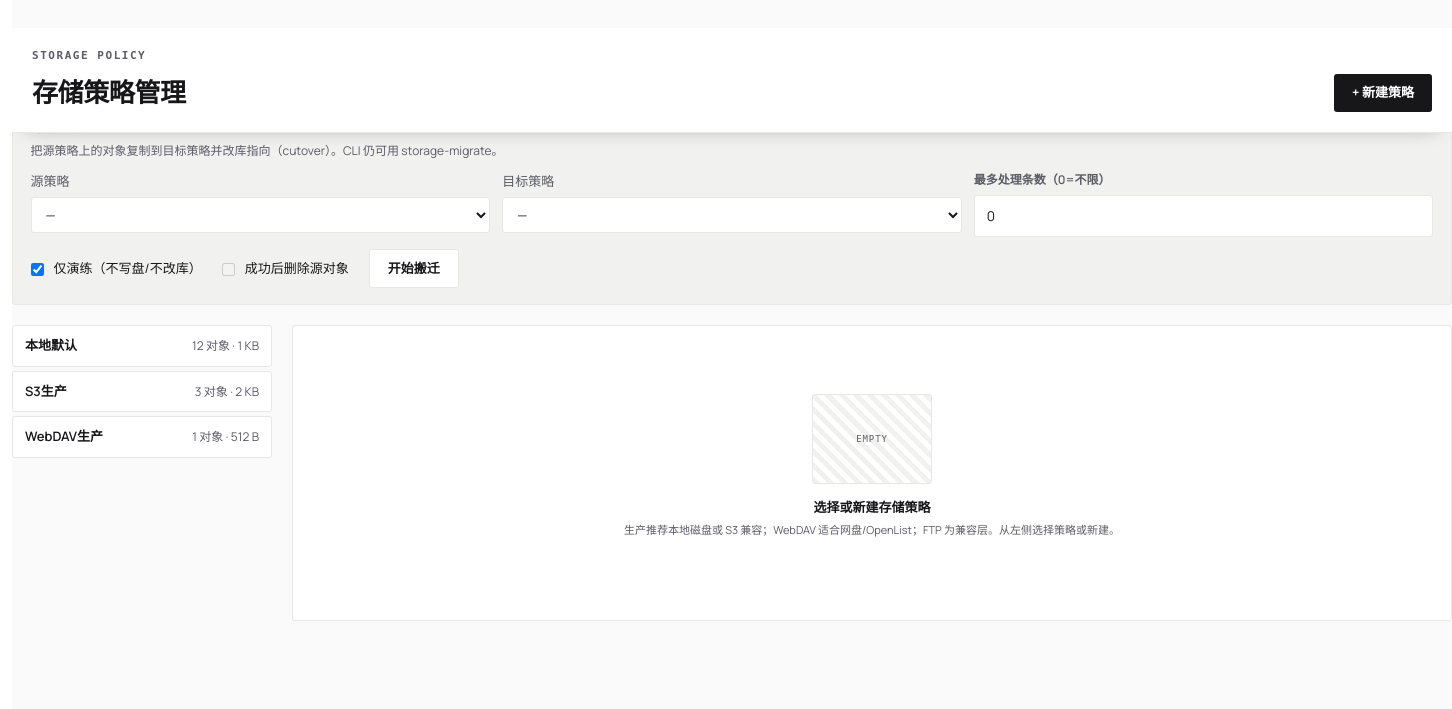
Test case: 新建态选 S3 驱动:s3 字段出现,存储路径隐藏
Click the button "+ 新建策略": (1383, 93) [1334,74,1432,112]
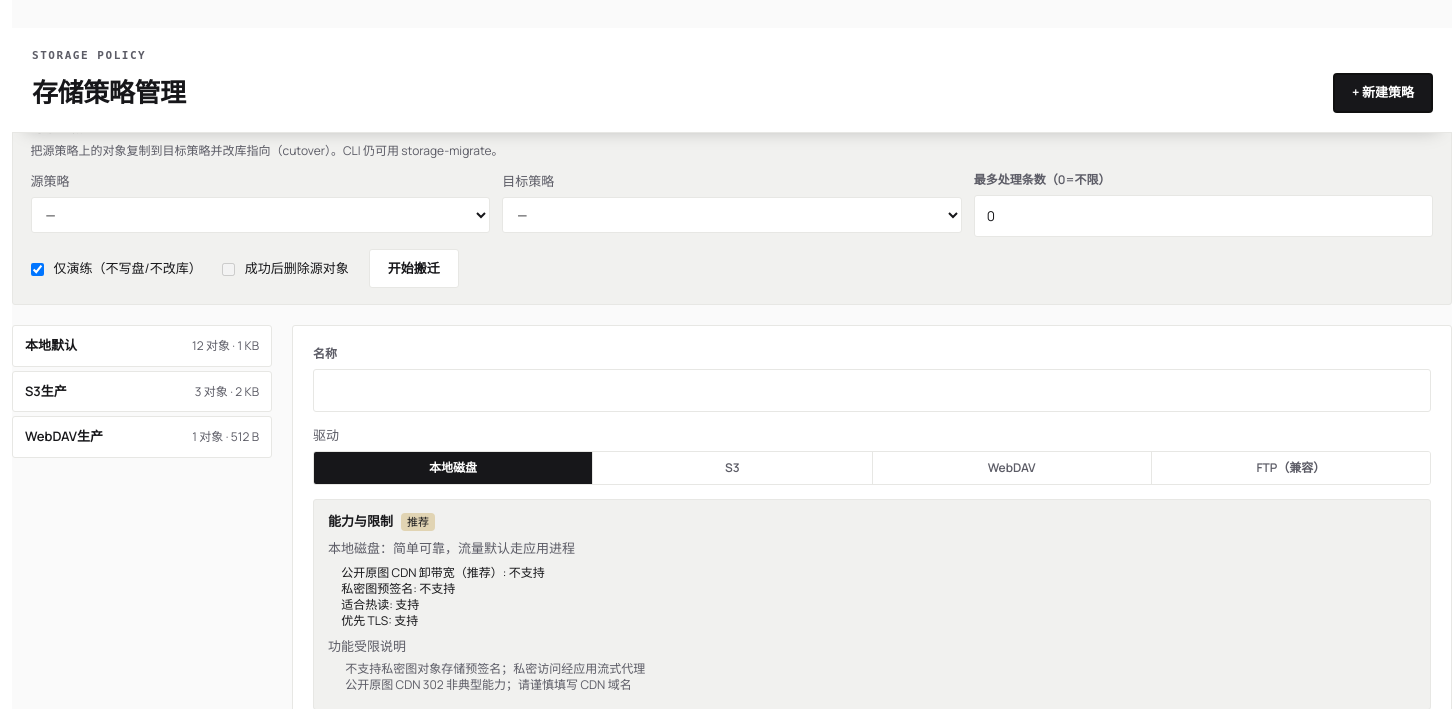
Click the button "S3": (732, 468) [592,452,872,484]
(page scrolled)
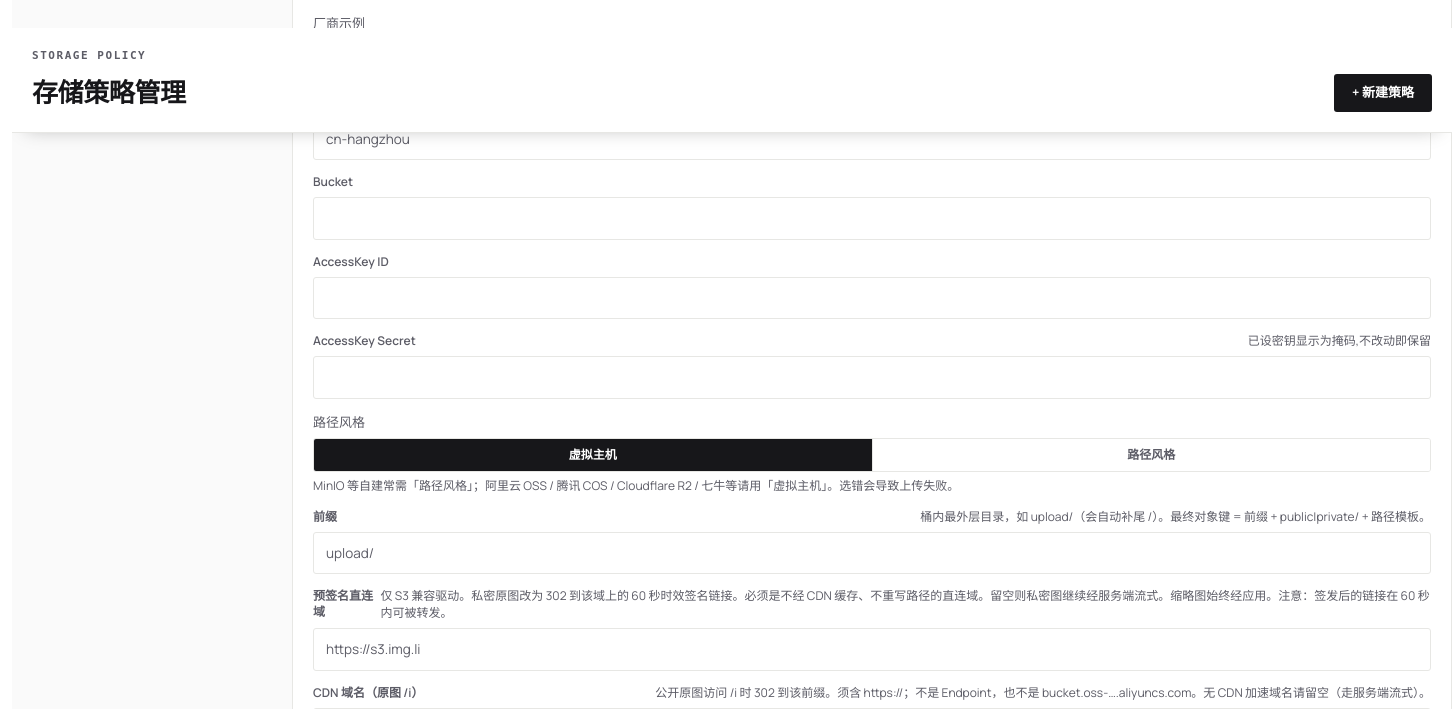
Result: the field labelled "Region" is shown at [313,118,1431,160]
Result: the field labelled "Bucket" is shown at [313,197,1431,240]
Result: the field labelled "AccessKey ID" is shown at [313,277,1431,319]
